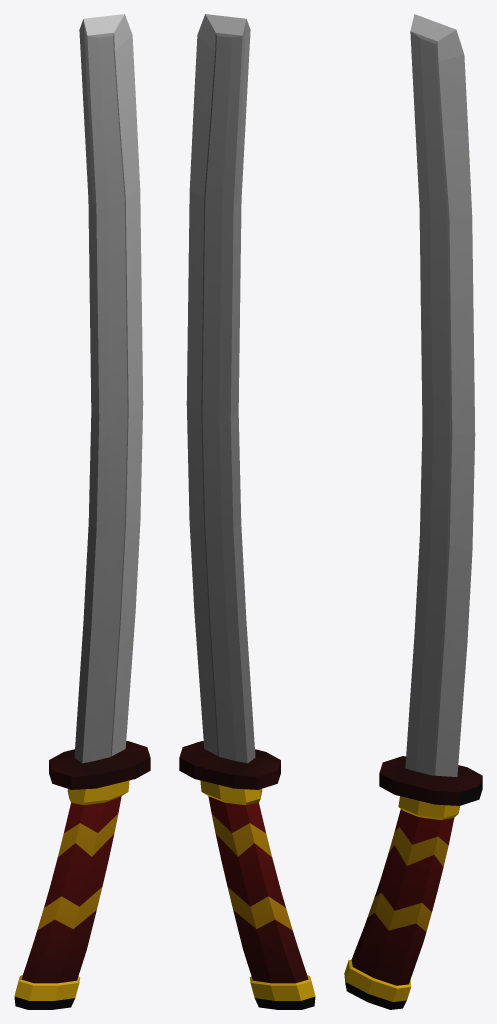
File: Sword_Katana.fbx
3 renders of one model, left to right at view 1: azimuth 30°, elevation 25°; view 2: azimuth 150°, elevation 25°; view 3: azimuth 330°, elevation 25°, orthographic.
Visible parts, largest first — view 1: Sword_Katana; view 2: Sword_Katana; view 3: Sword_Katana.
Boxes of the visible parts, x1,y1,x2,y2 form: Sword_Katana: (14, 14, 150, 1009); Sword_Katana: (179, 14, 315, 1009); Sword_Katana: (344, 14, 482, 1009).
Size of the model in its own units: 49 by 346 by 20.46.
